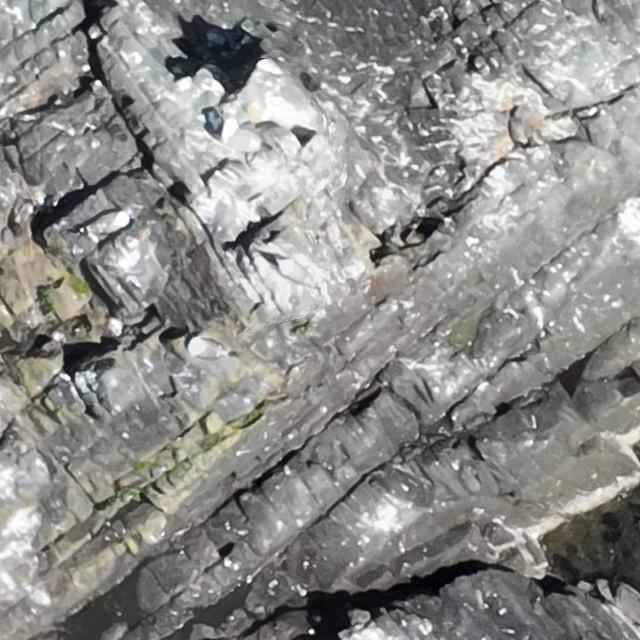umineko: (220, 118, 267, 153), (82, 210, 129, 237), (277, 259, 316, 291), (189, 337, 228, 361)
